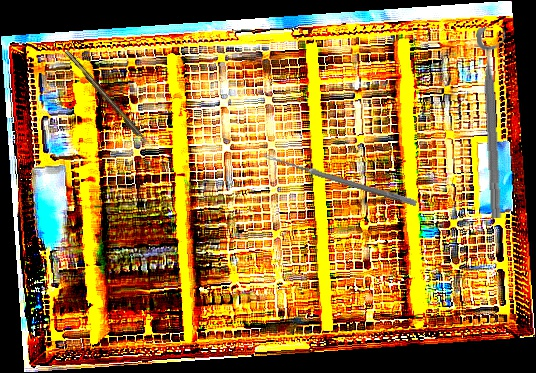Fixation Ring: (476, 26, 517, 219)
Hook Surgical: (64, 48, 154, 152)
Surgical Spoon: (262, 152, 418, 207)
